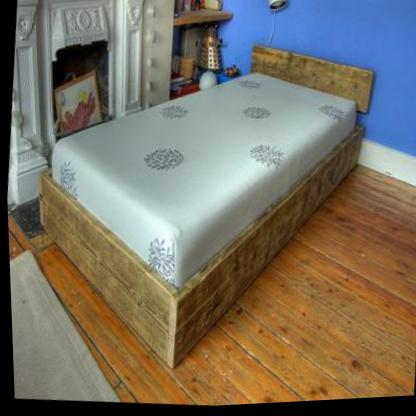Bed: (39, 49, 375, 371)
Wooden floor: (176, 170, 416, 408)
